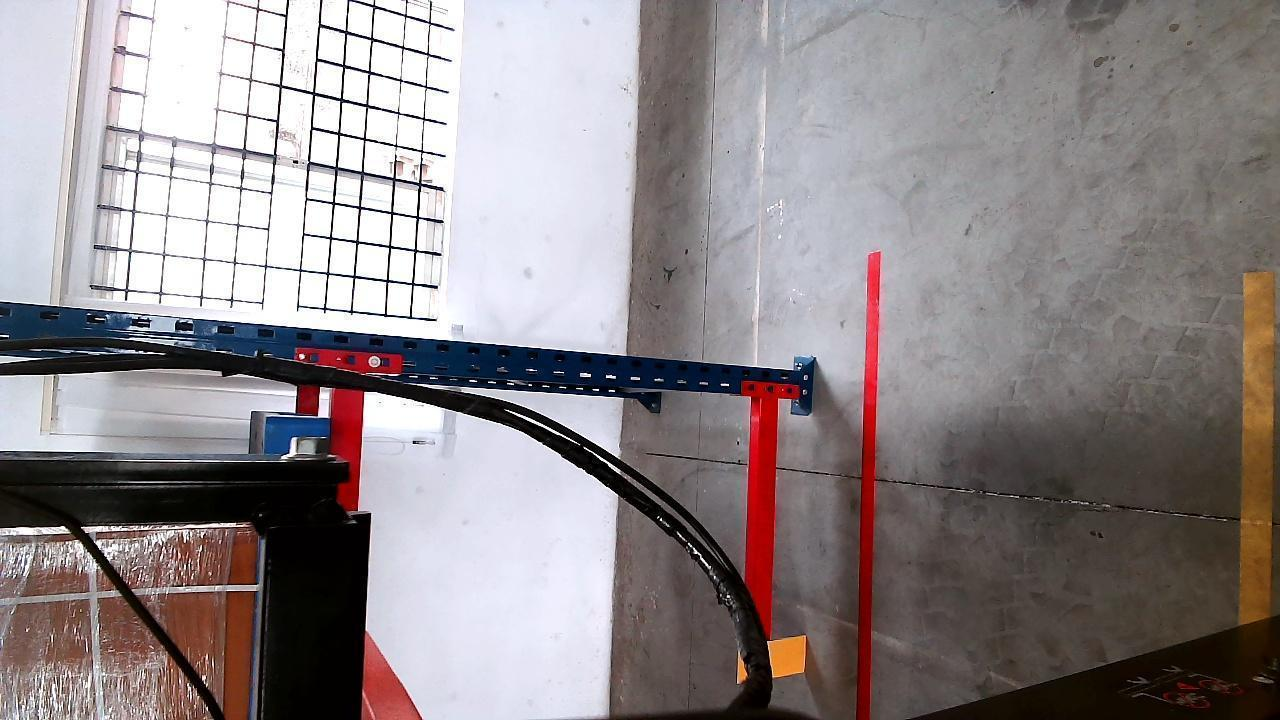red_line: (857, 260, 880, 720)
yellow_line: (1238, 261, 1277, 632)
